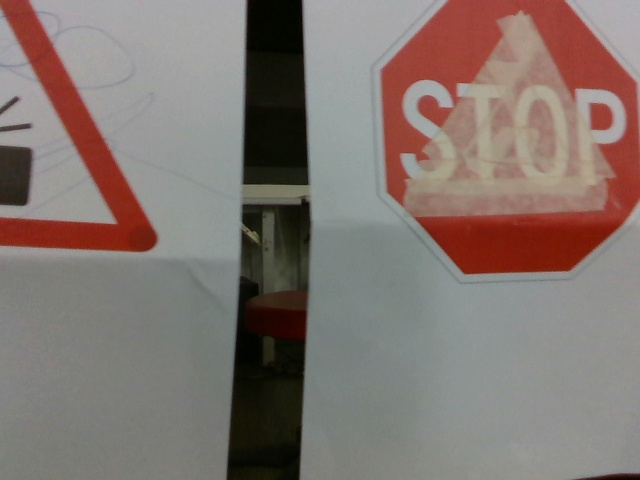stop: (390, 5, 635, 262)
